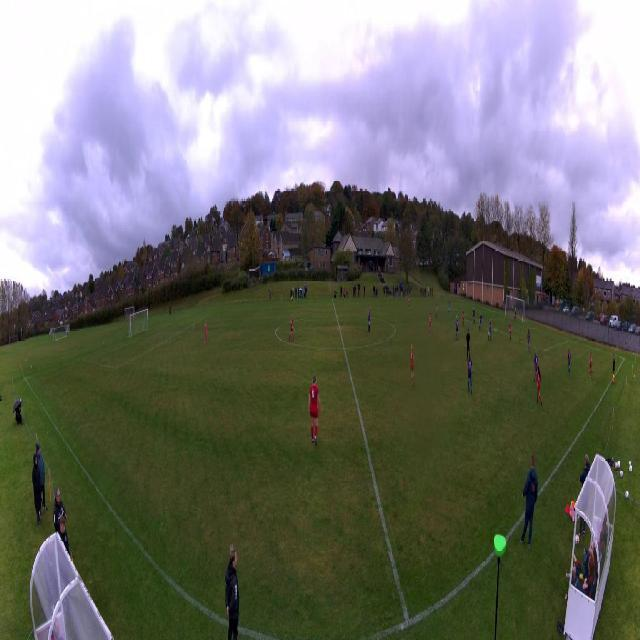ball: (488, 332, 489, 336)
player: (308, 373, 323, 447), (409, 344, 415, 385), (536, 367, 542, 405), (468, 354, 473, 395), (532, 351, 538, 382), (289, 314, 295, 342), (466, 328, 471, 358), (567, 350, 572, 377), (588, 353, 593, 375), (455, 314, 459, 340), (367, 306, 371, 332), (428, 313, 432, 338), (527, 329, 531, 353), (204, 320, 208, 344), (488, 319, 492, 341), (479, 312, 483, 331), (509, 321, 512, 341), (462, 308, 465, 326), (472, 308, 475, 325), (408, 294, 411, 310), (514, 306, 517, 321), (435, 300, 437, 318), (449, 298, 451, 315)
